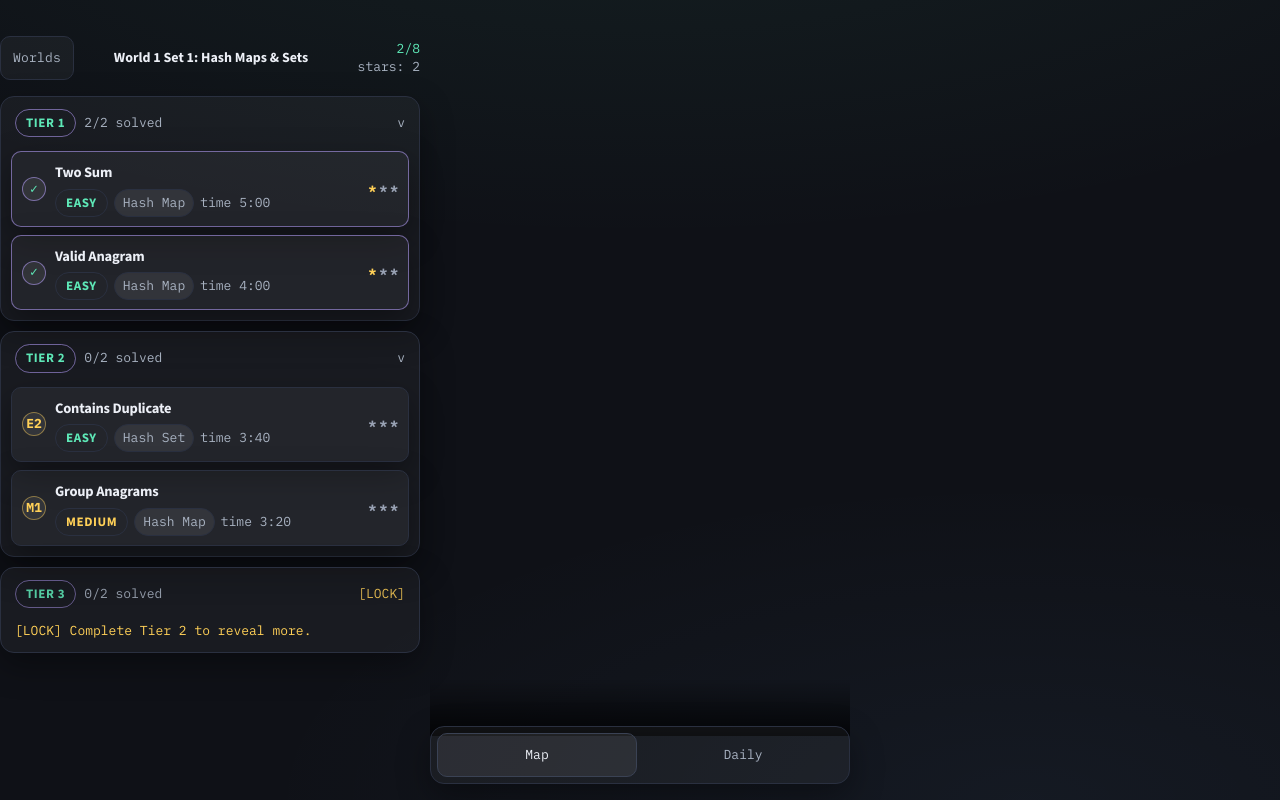
Scenario: screens/BlueprintScreen › allows replaying already-solved earlier tier challenges
The width and height of the screenshot is (1280, 800).
Click the button "✓ Two Sum Easy Hash Map time 5:00 * * *": (84, 172) [11,151,409,227]
(page scrolled)
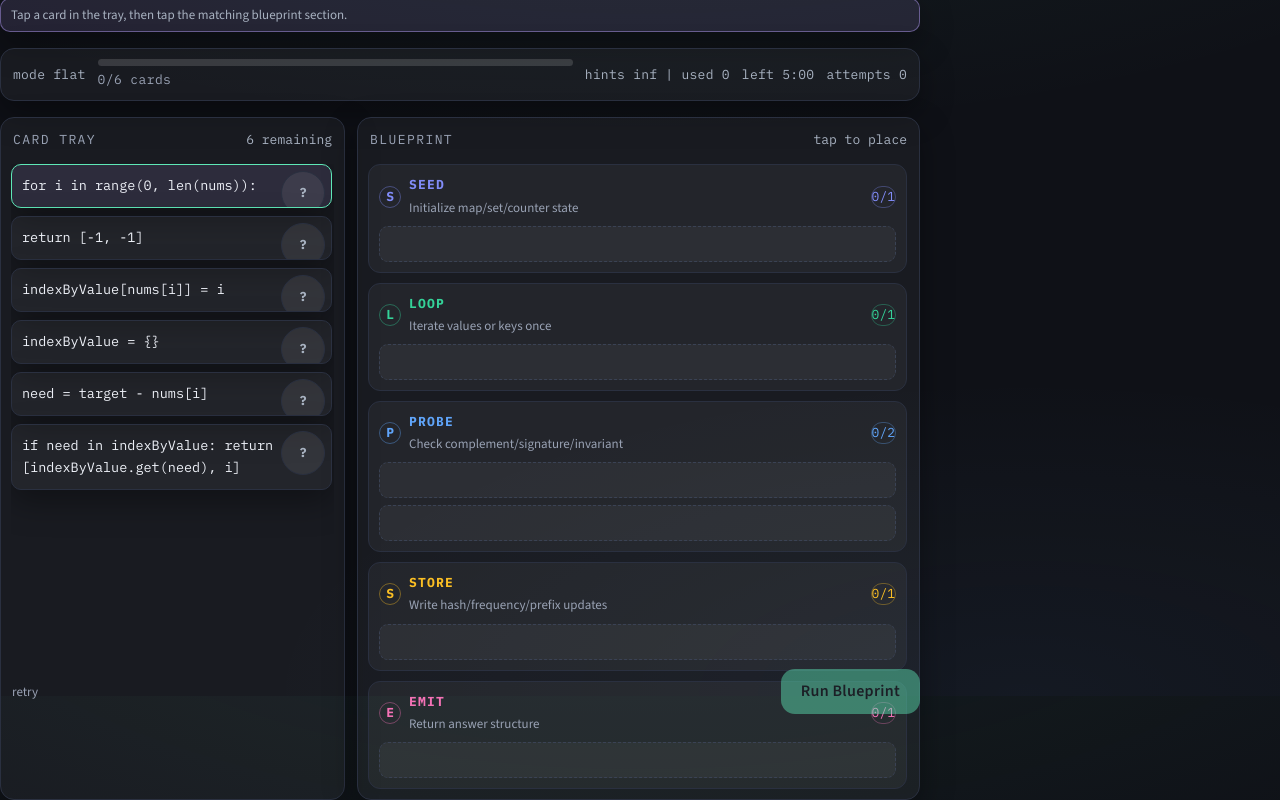
Check: the button "Run Blueprint" is shown, box [781,669,920,714]
